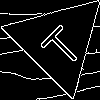T: (32, 17, 86, 71)
